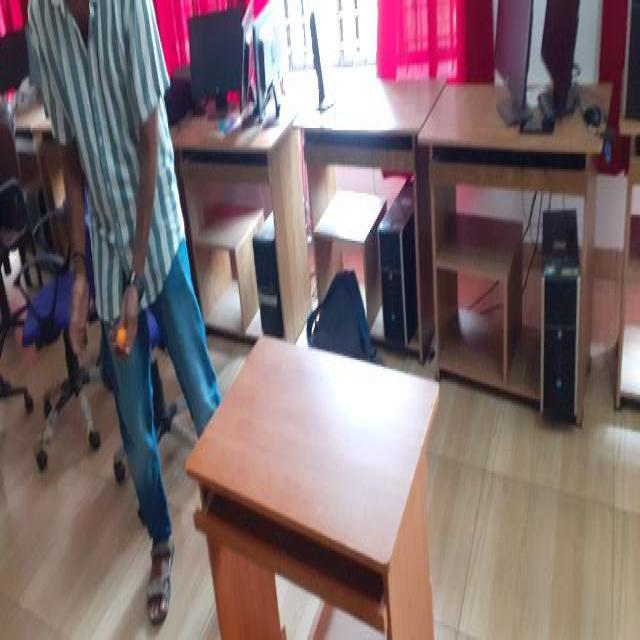oball: (113, 324, 129, 353)
